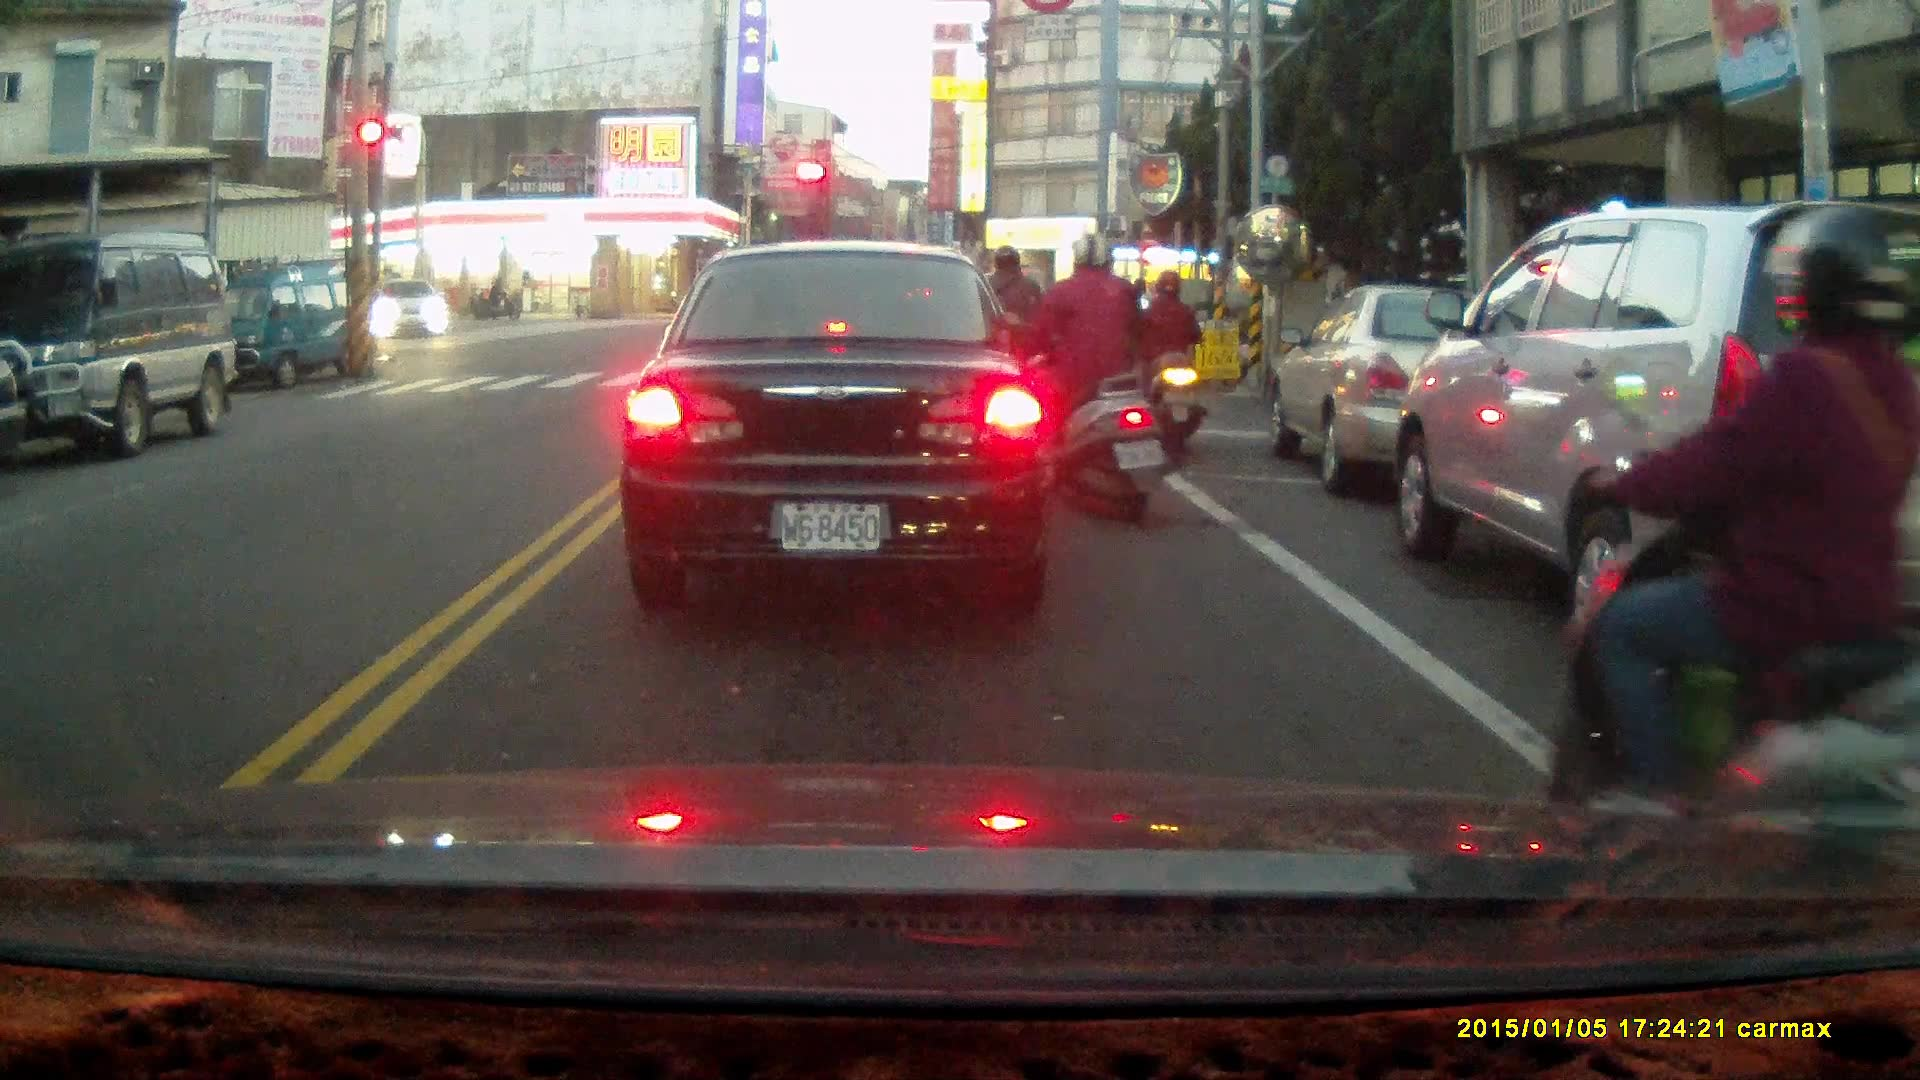rider: (1547, 202, 1920, 951), (1005, 230, 1168, 526), (960, 239, 1057, 434), (1134, 269, 1204, 450), (473, 279, 519, 321)
vehicle: (1381, 198, 1919, 690), (617, 243, 1061, 606), (1266, 286, 1566, 500), (1, 234, 239, 458), (194, 255, 381, 393), (372, 277, 451, 343)
